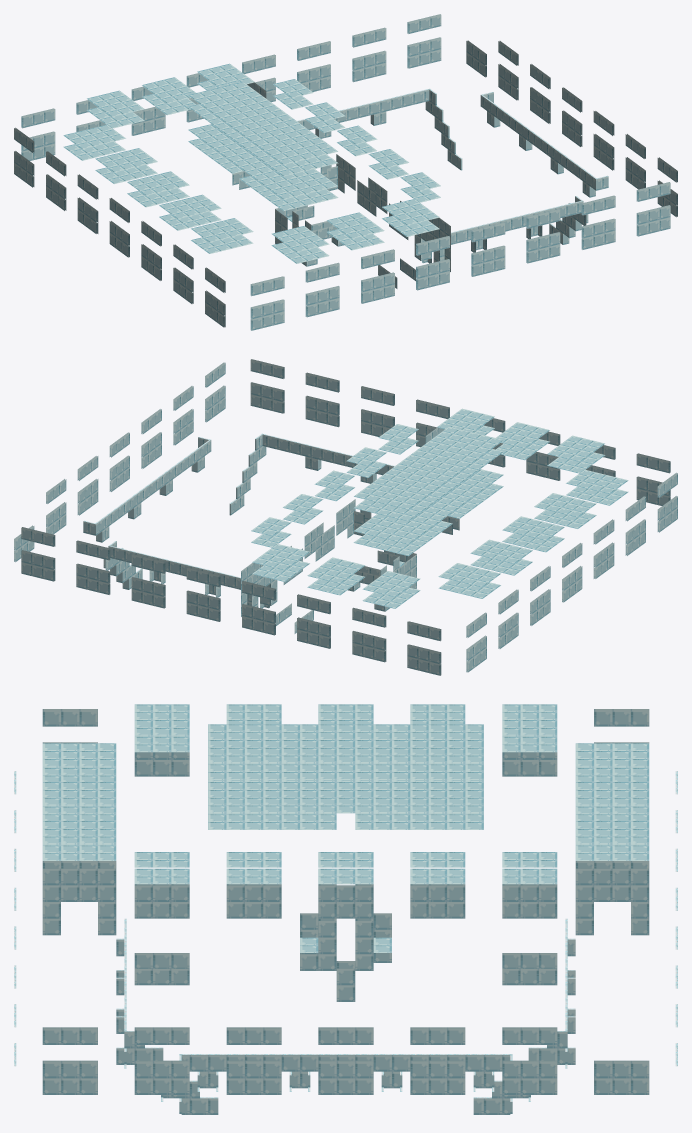
The model's file is SCHOLL_MINE_2_windows.fbx.
The picture shows the model from 3 angles, top to bottom: view 1: azimuth 30°, elevation 25°; view 2: azimuth 150°, elevation 25°; view 3: azimuth 270°, elevation 25°; orthographic projection. The views are drawn at different scales.
Parts seen in each view (by area): view 1: Windows2; view 2: Windows2; view 3: Windows2.
Boxes of the visible parts, box(x1,y1,x2,y2) form: Windows2: box(14, 14, 677, 330); Windows2: box(14, 359, 677, 675); Windows2: box(14, 704, 677, 1114).
Size of the model in its own units: 104 by 30.48 by 91.76.
2 materials, 2 textured.
